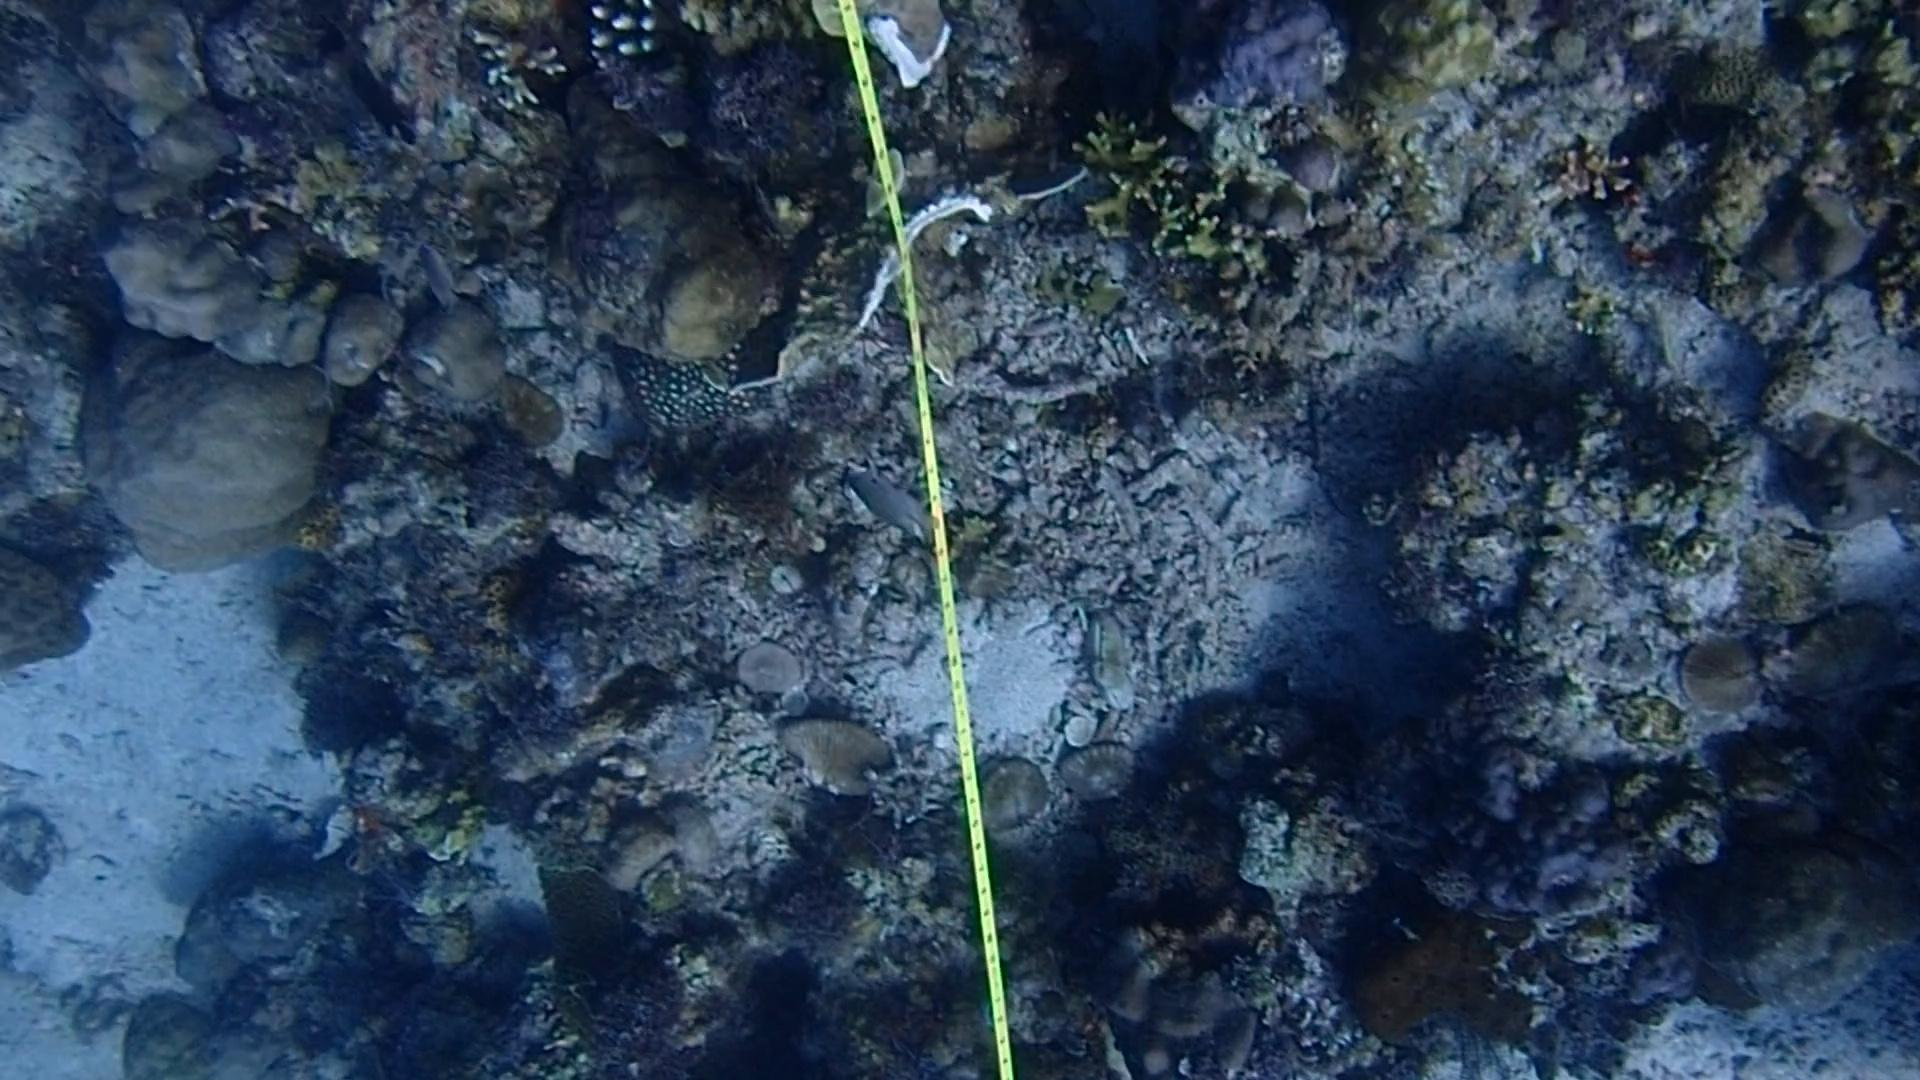Light Fish: (839, 448, 949, 556)
